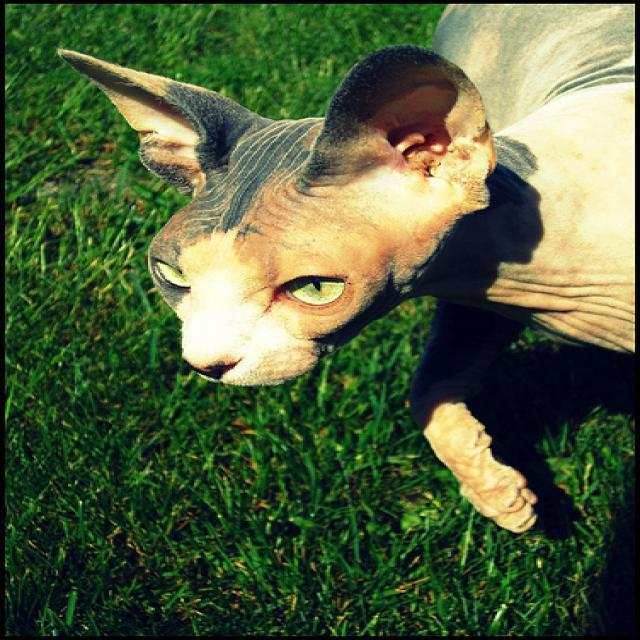Sphynx: (55, 41, 494, 384)
